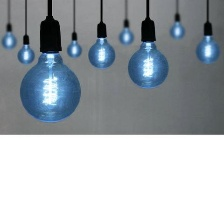light_bulb: (16, 45, 85, 126), (125, 33, 171, 90), (193, 23, 223, 66), (84, 34, 118, 69), (14, 35, 38, 65), (62, 35, 84, 60), (166, 14, 186, 41), (115, 20, 134, 45), (0, 24, 18, 50)
